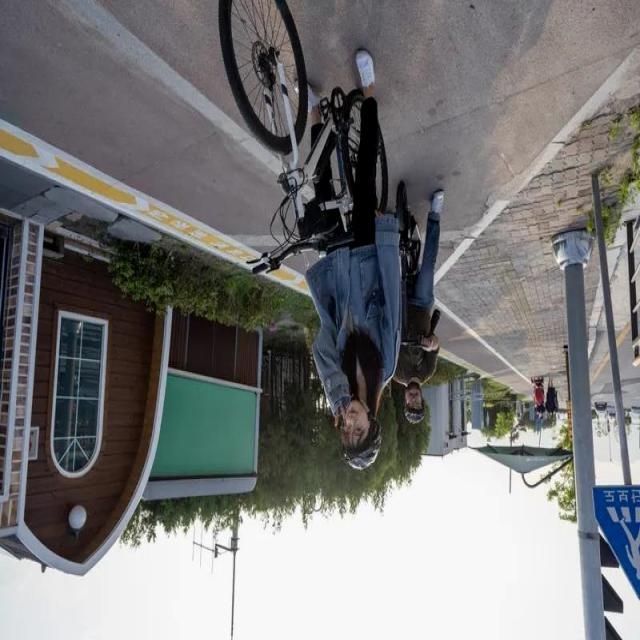helmet: (341, 419, 383, 471), (404, 404, 427, 426)
